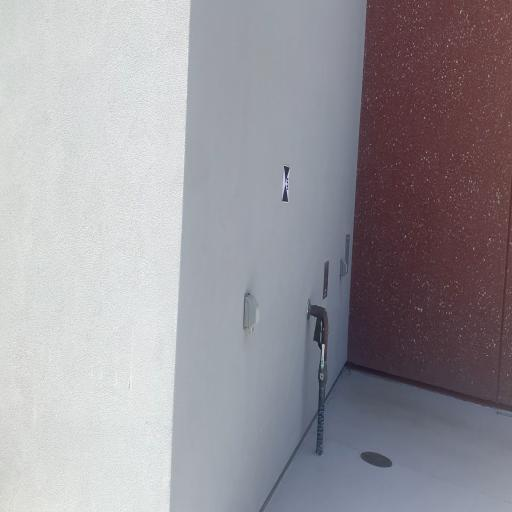target5: (282, 166, 290, 203)
